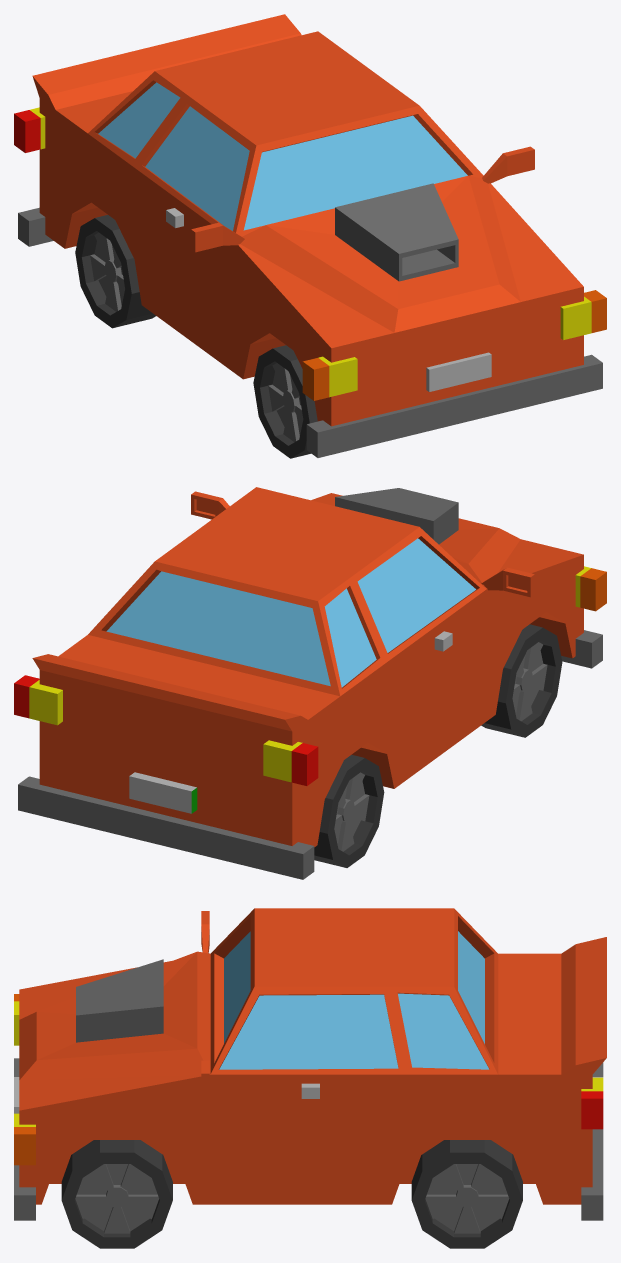
Rendered from lowpolyFastCar.fbx.
The picture shows the model from 3 angles, top to bottom: view 1: azimuth 30°, elevation 25°; view 2: azimuth 150°, elevation 25°; view 3: azimuth 270°, elevation 25°; orthographic projection.
Parts seen in each view (by area): view 1: fast car; view 2: fast car; view 3: fast car.
Boxes of the visible parts, bbox=[...] form: fast car: bbox=[14, 14, 606, 458]; fast car: bbox=[14, 487, 606, 879]; fast car: bbox=[14, 908, 606, 1248].
Bounding box in the file's own units: 269 × 185 × 414.
